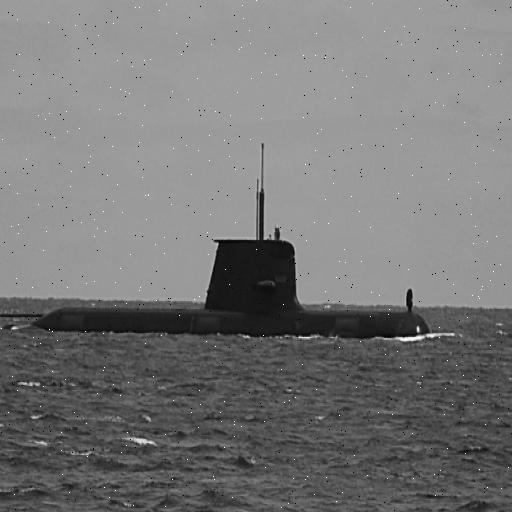submarine: (1, 136, 436, 332)
